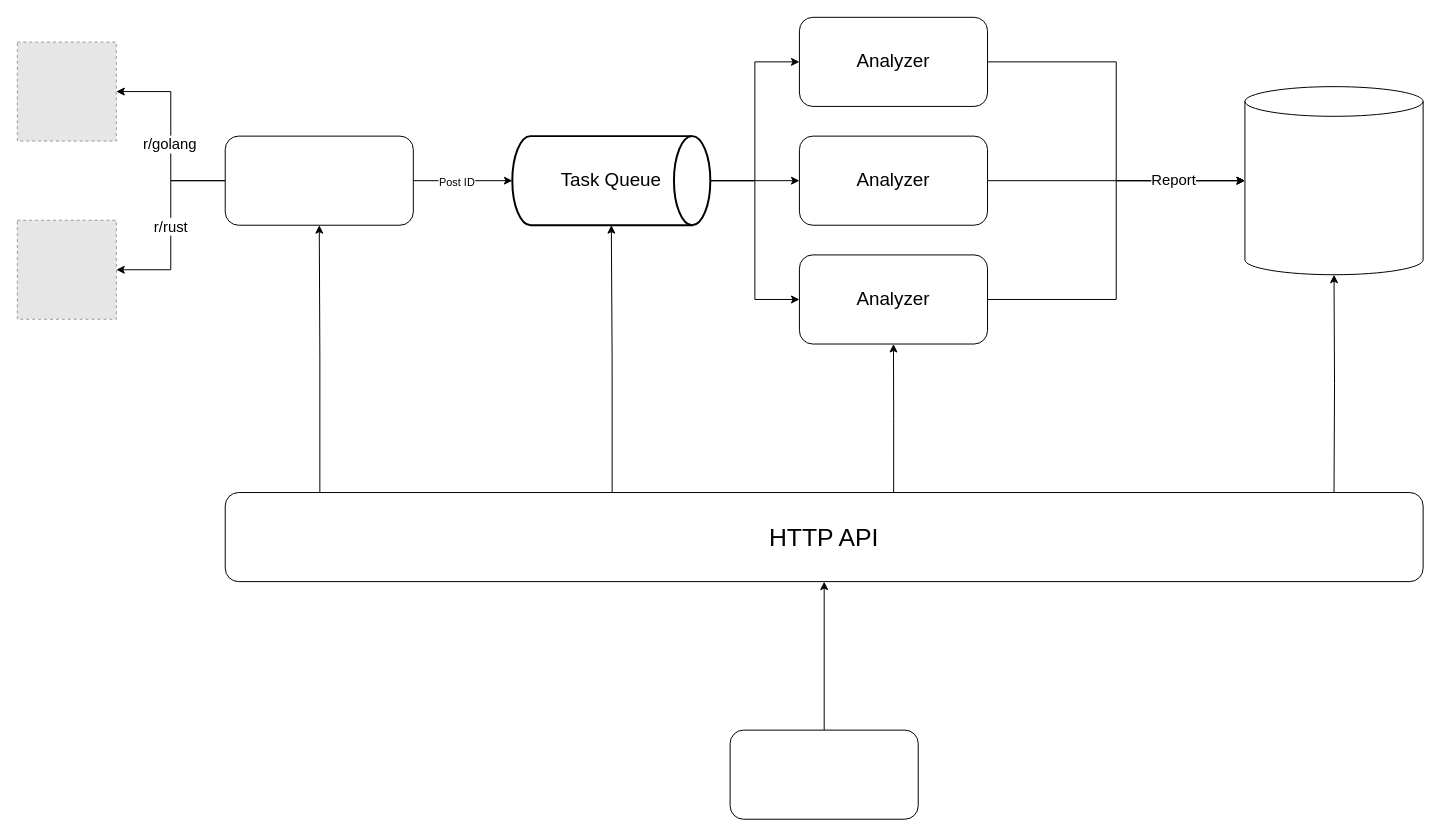
Image size: 1440x837. Some labels were removed from this diagram. Grey dashed boxes stand in for pictures. The centre of each missing label's shape, as x and y in pixels:
Reddit Provider: point (318, 180)
Reports Database: point (1333, 180)
UI: point (823, 774)
